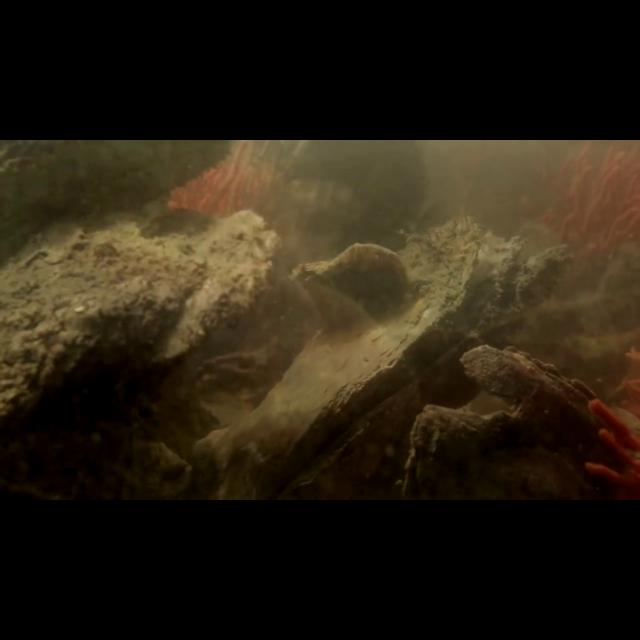Oyster-Closed: (3, 205, 288, 440), (396, 340, 611, 497)
Oyster-Open: (184, 200, 581, 499)
